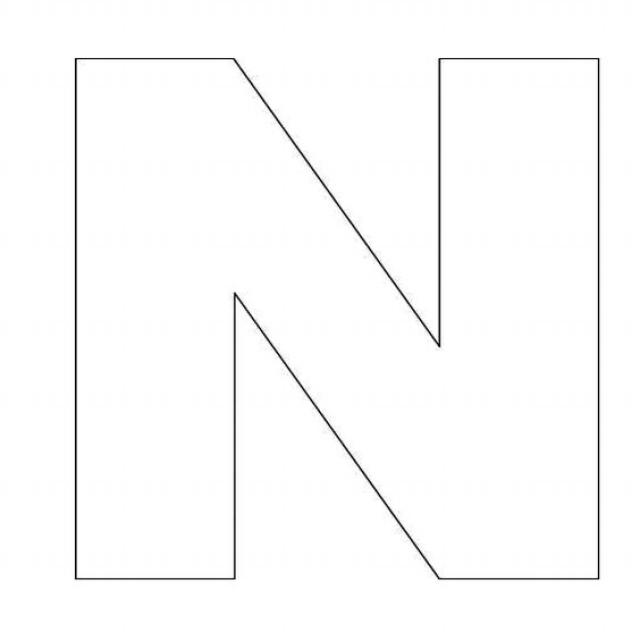N: (15, 30, 629, 616)
